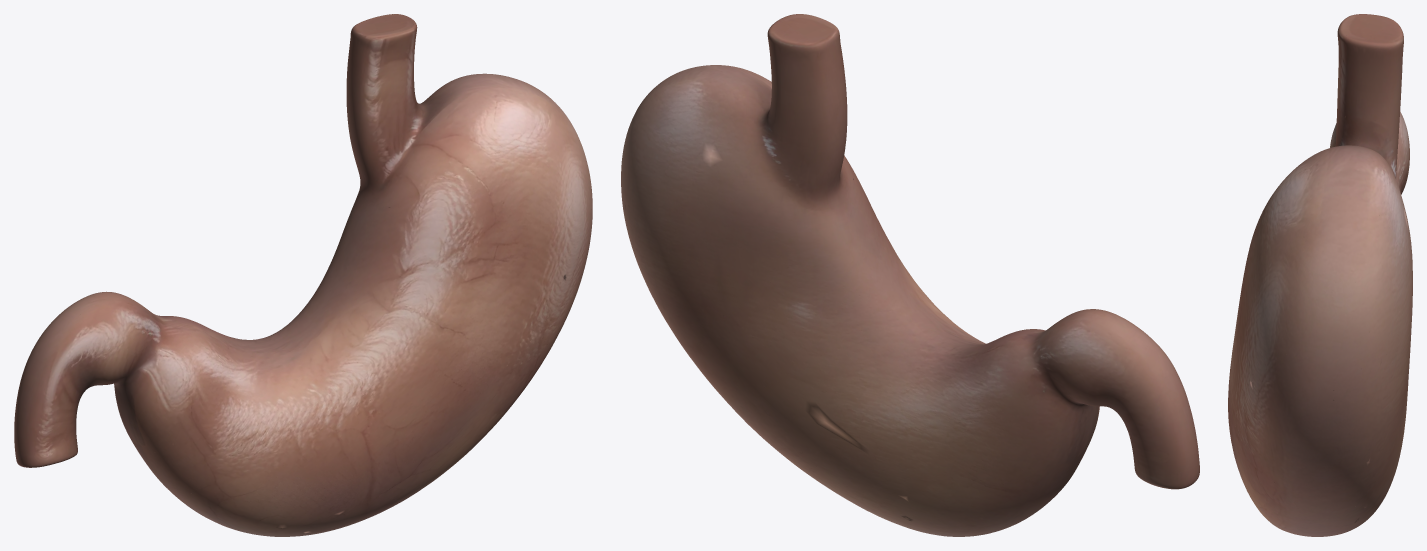
The model's file is stomach.glb.
3 renders of one model, left to right at view 1: azimuth 30°, elevation 25°; view 2: azimuth 150°, elevation 25°; view 3: azimuth 270°, elevation 25°, orthographic. The views are drawn at different scales.
Parts seen in each view (by area): view 1: Mesh_0; view 2: Mesh_0; view 3: Mesh_0.
Boxes of the visible parts, bbox=[...] form: Mesh_0: bbox=[14, 14, 592, 536]; Mesh_0: bbox=[621, 14, 1199, 536]; Mesh_0: bbox=[1228, 14, 1412, 536].
Size of the model in its own units: 1.11 by 0.8944 by 0.2787.
1 material, 1 textured.
